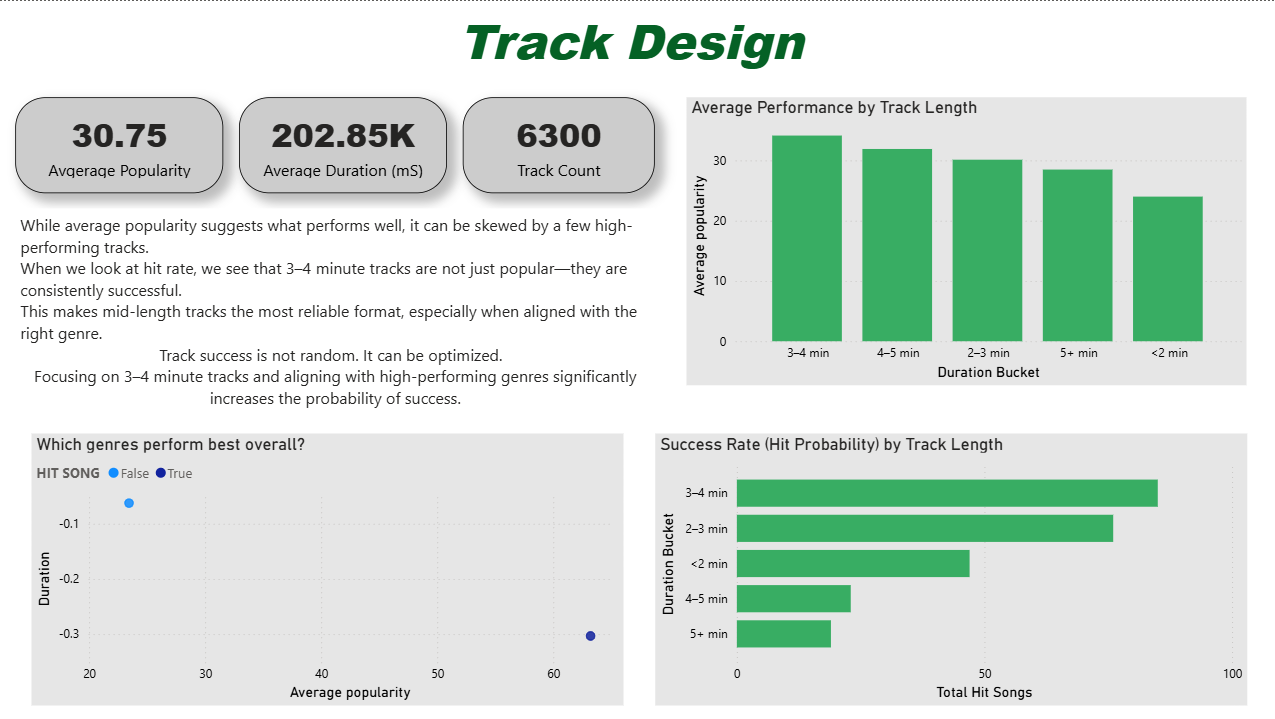

The page's visual inventory and layout, read from the dashboard file:
{"tool":"powerbi","page":{"name":"Description","canvas":[1280,720],"ordinal":2},"visuals":[{"type":"textbox","box":[16,0,1232,80],"z":0},{"type":"card","fields":{"Values":["spotify_project.Avg Artist Popularity"]},"box":[16,96,208,96],"z":1000},{"type":"card","fields":{"Values":["Avg(spotify_project.duration_ms)"]},"box":[240,96,208,96],"z":2000},{"type":"card","fields":{"Values":["spotify_project.Track Count"]},"box":[464,96,192,96],"z":3000},{"type":"clusteredColumnChart","title":"Average Performance by Track Length","fields":{"Category":["spotify_project.Duration Bucket"],"Y":["Avg(spotify_project.popularity)"]},"box":[688,96,560,288],"z":4000},{"type":"scatterChart","title":"Which genres perform best overall?","fields":{"Y":["spotify_project.Corr Duration Popularity"],"X":["spotify_project.popularity"],"Series":["spotify_project.HITSONG"]},"box":[32,432,592,272],"z":5000},{"type":"barChart","title":"Success Rate (Hit Probability) by Track Length","fields":{"Category":["spotify_project.Duration Bucket"],"Y":["CountNonNull(spotify_project.HITSONG)"]},"box":[656,432,592,272],"z":6000},{"type":"textbox","box":[16,208,640,208],"z":7000}]}

Visuals, with their boxes in screenshot pixels (x1, y1, x2, y2), scaled from the page's 1280x720 canvas onto the 1275x719 screenshot:
textbox: [left=16, top=0, right=1243, bottom=80]
card - spotify_project.Avg Artist Popularity: [left=16, top=96, right=223, bottom=192]
card - Avg(spotify_project.duration_ms): [left=239, top=96, right=446, bottom=192]
card - spotify_project.Track Count: [left=462, top=96, right=653, bottom=192]
"Average Performance by Track Length" clusteredColumnChart: [left=685, top=96, right=1243, bottom=383]
"Which genres perform best overall?" scatterChart: [left=32, top=431, right=622, bottom=703]
"Success Rate (Hit Probability) by Track Length" barChart: [left=653, top=431, right=1243, bottom=703]
textbox: [left=16, top=208, right=653, bottom=415]
